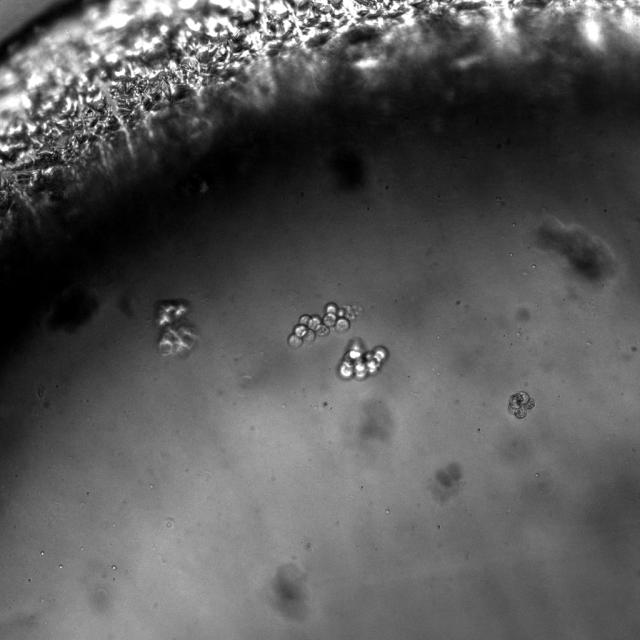organoid: (288, 302, 361, 348), (156, 300, 196, 355), (338, 339, 388, 379), (508, 391, 534, 419)
